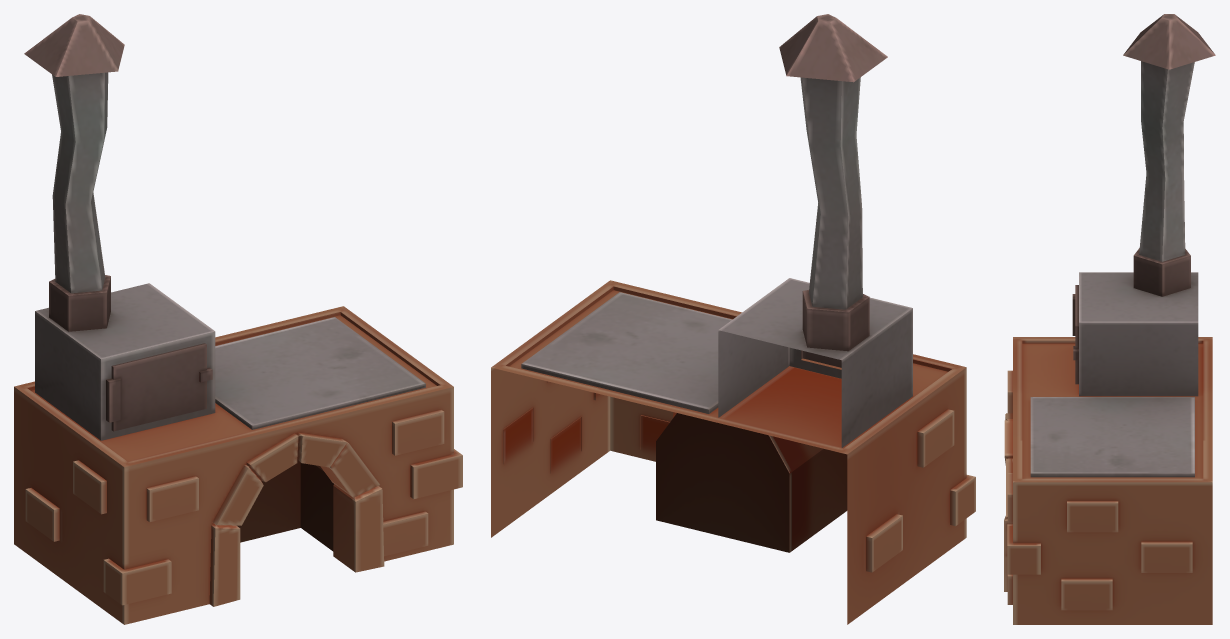
File: RuralProps_WoodBurningStove.fbx
The picture shows the model from 3 angles, left to right: view 1: azimuth 30°, elevation 25°; view 2: azimuth 150°, elevation 25°; view 3: azimuth 270°, elevation 25°; orthographic projection. The views are drawn at different scales.
Parts seen in each view (by area): view 1: polySurface43; view 2: polySurface43; view 3: polySurface43.
Part boxes in pixels (bbox=[...]): polySurface43: bbox=[14, 14, 462, 624]; polySurface43: bbox=[491, 14, 975, 624]; polySurface43: bbox=[1004, 14, 1215, 624].
Bounding box in the file's own units: 5.31 × 7.93 × 3.16.
Materials: 2 (2 with a texture image).
